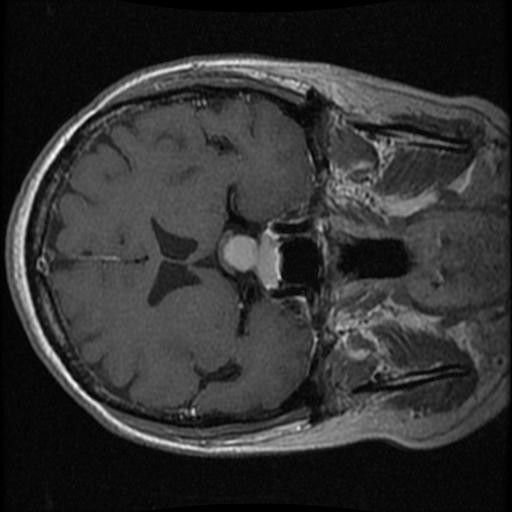pituitary tumour: (221, 230, 282, 289)
